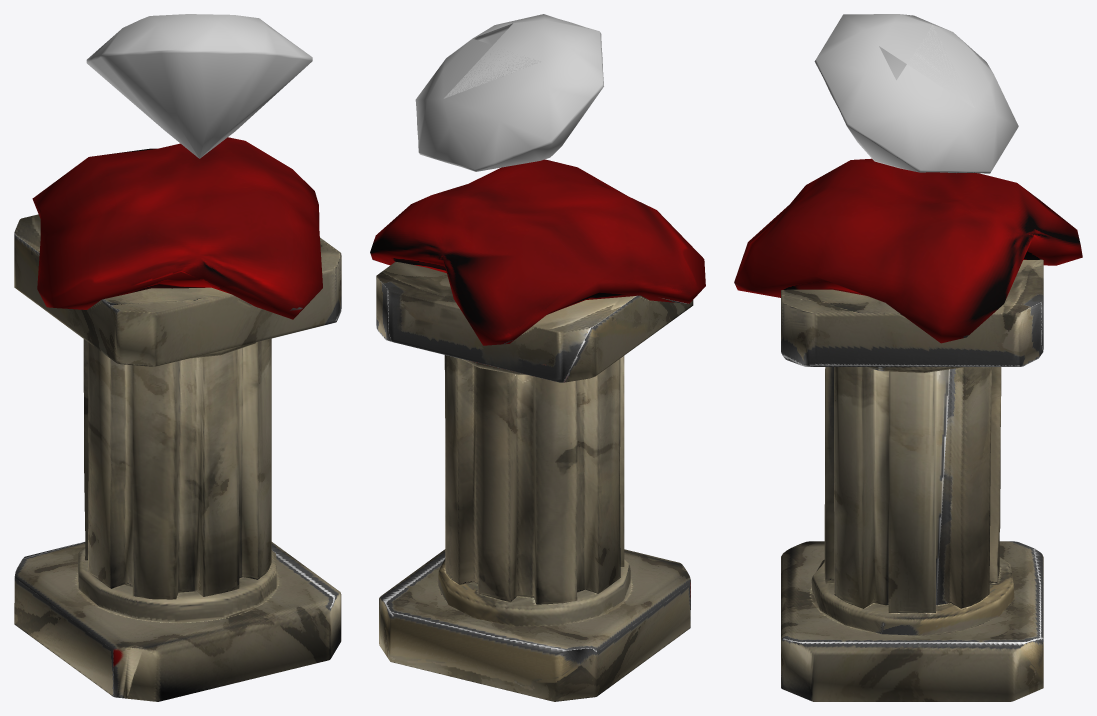
Rendered from Diamond_.FBX.
The picture shows the model from 3 angles, left to right: view 1: azimuth 30°, elevation 25°; view 2: azimuth 150°, elevation 25°; view 3: azimuth 270°, elevation 25°; orthographic projection. The views are drawn at different scales.
Parts seen in each view (by area): view 1: Group5603, Group23853, Group58953, ZBrush_defualt_group, Group24775, Group26939; view 2: Group5603, Group23853, Group58953, ZBrush_defualt_group, Group24775, Group26939; view 3: Group5603, Group23853, Group58953, ZBrush_defualt_group, Group24775, Group26939.
Boxes of the visible parts, <box> form: Group5603: <box>83,338,271,599</box>; Group23853: <box>32,137,322,319</box>; Group58953: <box>14,542,341,701</box>; ZBrush_defualt_group: <box>86,14,312,158</box>; Group24775: <box>14,214,341,366</box>; Group26939: <box>78,547,276,622</box>; Group5603: <box>444,355,624,604</box>; Group23853: <box>370,159,705,345</box>; Group58953: <box>379,549,690,701</box>; ZBrush_defualt_group: <box>415,14,603,171</box>; Group24775: <box>376,262,693,382</box>; Group26939: <box>438,558,630,626</box>; Group5603: <box>824,367,1001,613</box>; Group23853: <box>734,158,1082,343</box>; Group58953: <box>781,541,1043,701</box>; ZBrush_defualt_group: <box>814,14,1018,173</box>; Group24775: <box>781,259,1043,366</box>; Group26939: <box>811,557,1014,635</box>.
Size of the model in its own units: 6.22 by 12.27 by 6.21.
